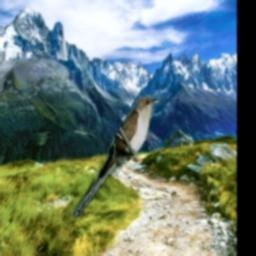Cuckoo: (71, 93, 161, 222)
